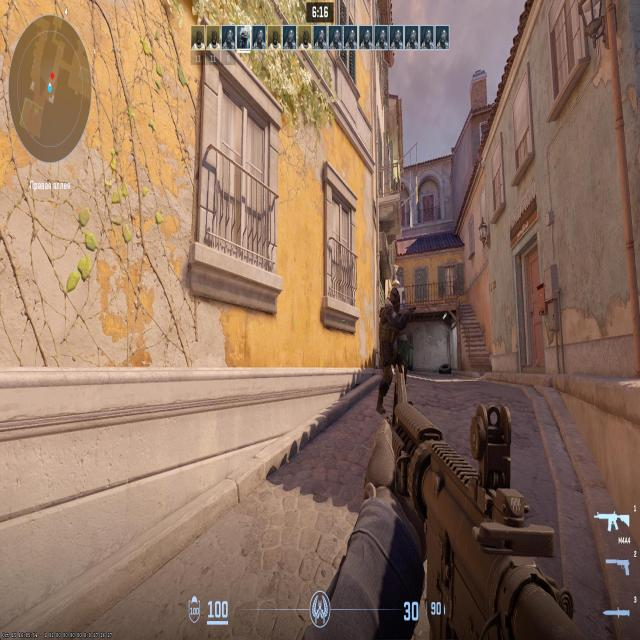CT: (382, 295, 406, 398)
CT_heat: (394, 297, 399, 308)
